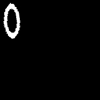chain: (4, 4, 19, 37)
